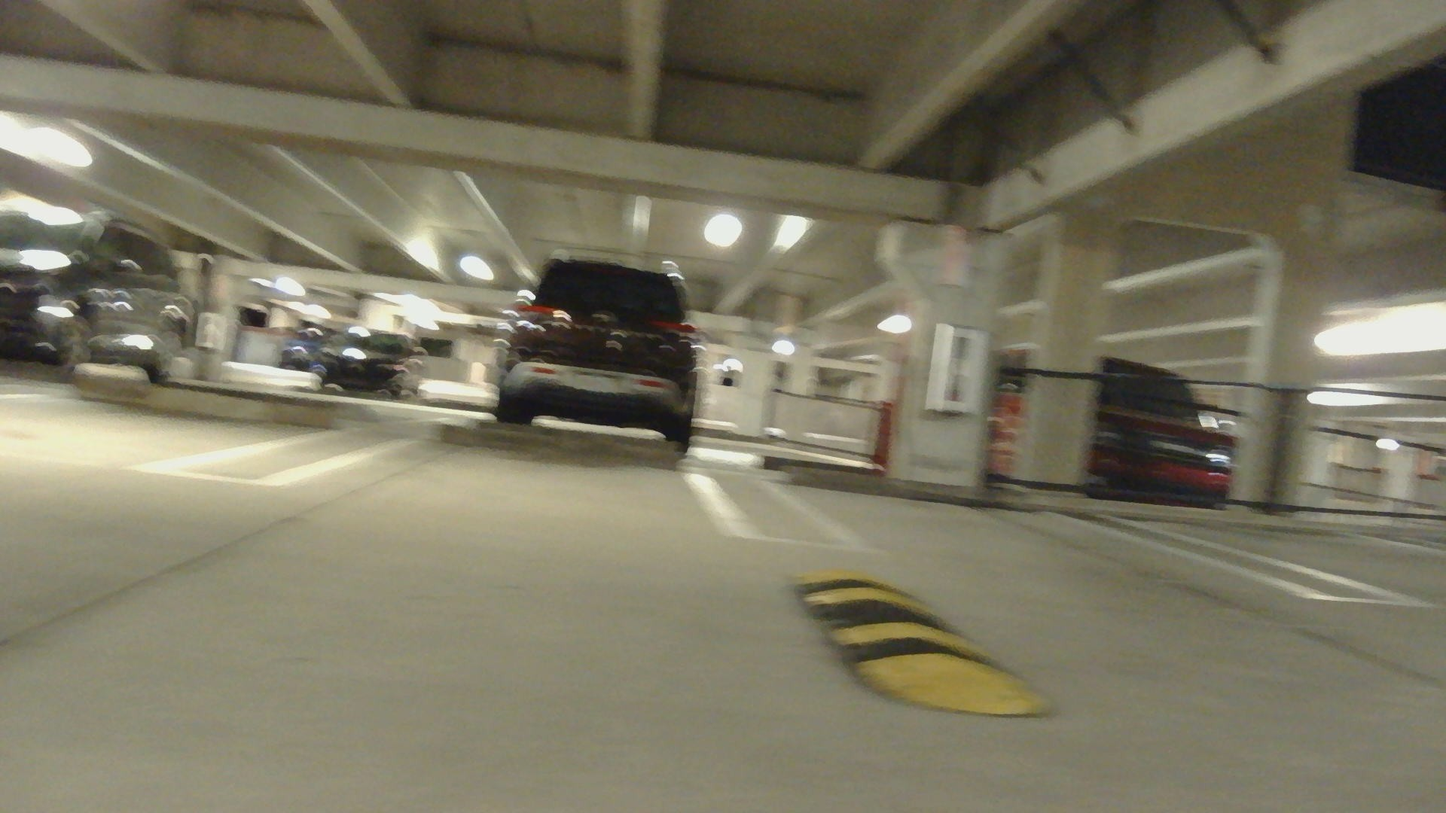empty_spot: (739, 406, 1367, 613), (1063, 381, 1446, 629), (259, 416, 813, 542), (0, 362, 384, 514)
